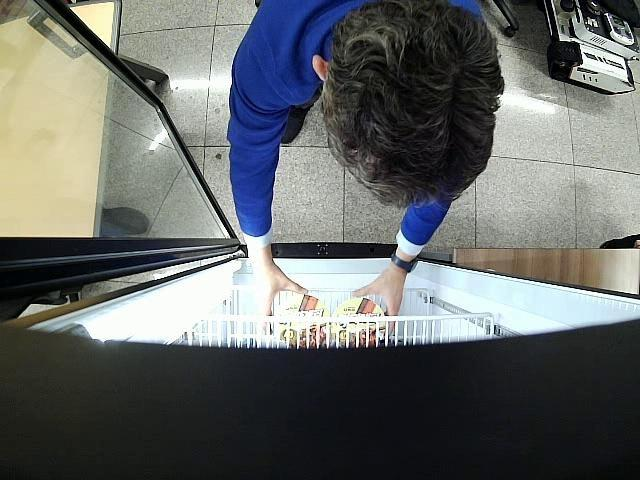03_chapagetti_L: (276, 293, 330, 348), (330, 296, 386, 346)
